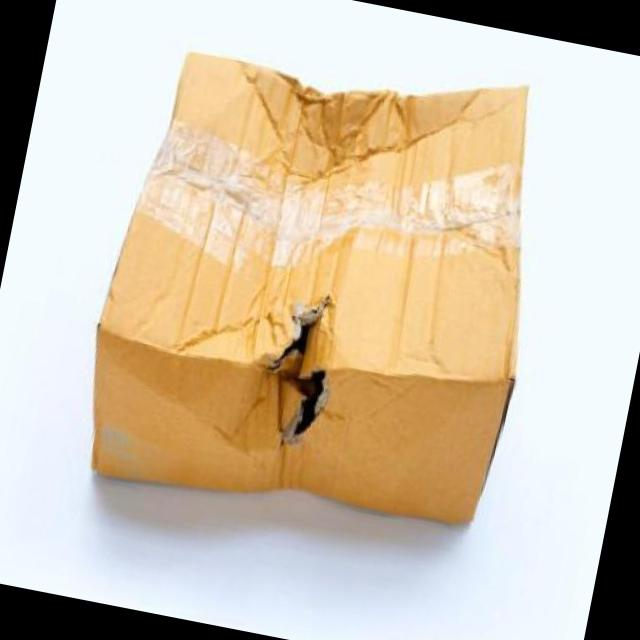crushed: (265, 74, 474, 171)
tear: (258, 294, 341, 452)
